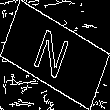N_SW: (33, 24, 77, 86)
